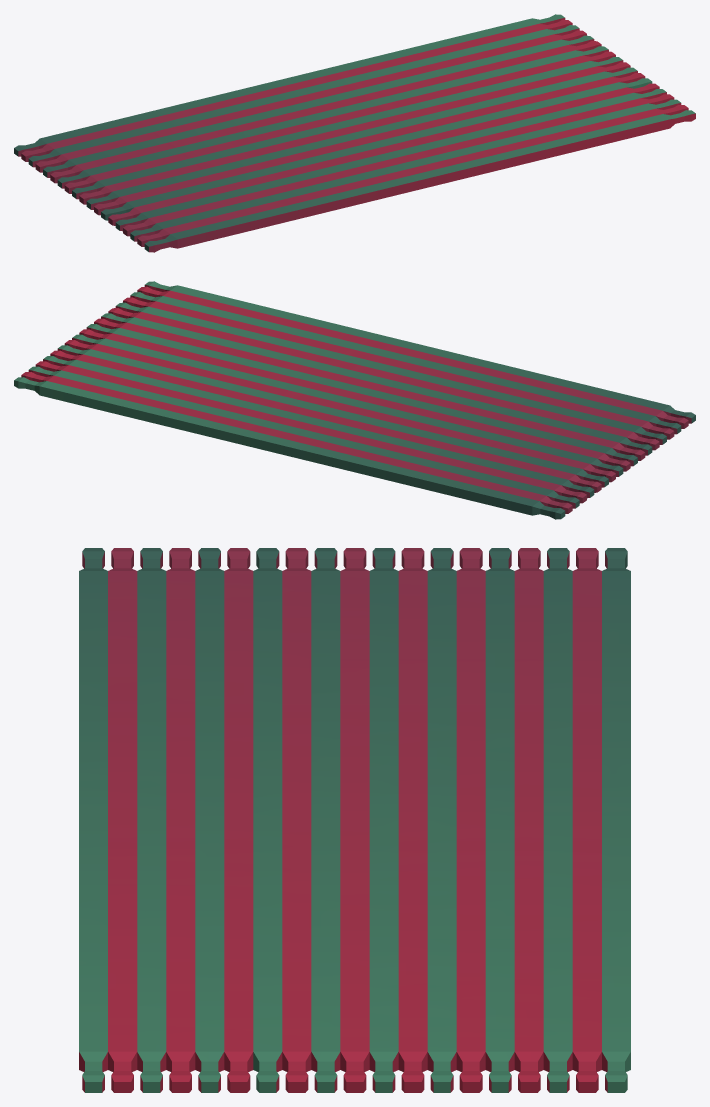
Rendered from carpet01.fbx.
The picture shows the model from 3 angles, top to bottom: view 1: azimuth 30°, elevation 25°; view 2: azimuth 150°, elevation 25°; view 3: azimuth 270°, elevation 25°; orthographic projection. The views are drawn at different scales.
Visible parts, largest first — view 1: carpet01; view 2: carpet01; view 3: carpet01.
Part boxes in pixels (x1,y1,x2,y2): carpet01: (14,14,695,252); carpet01: (14,281,695,519); carpet01: (79,548,630,1092).
Size of the model in its own units: 1.86 by 0.0298 by 0.8117.
